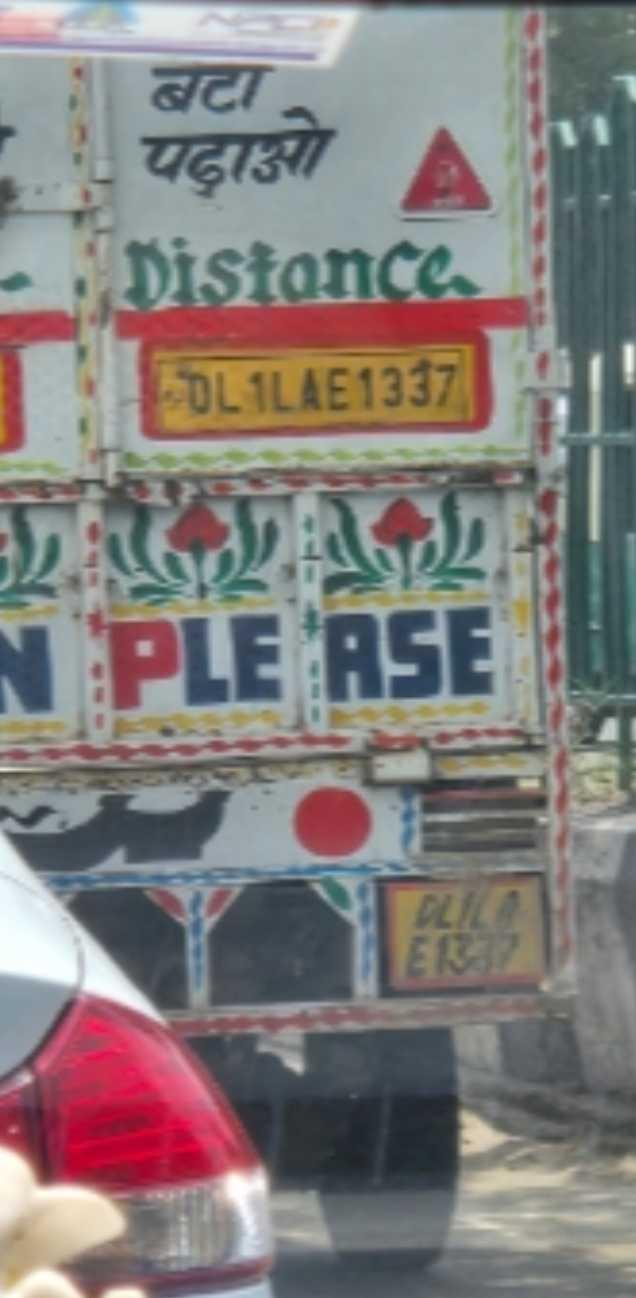License plate: (153, 348, 472, 430)
